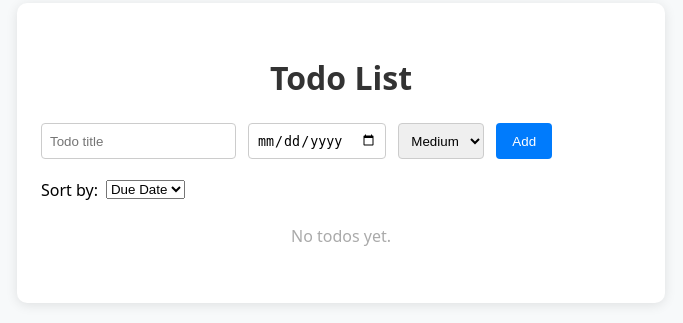
Scenario: App Integration › can add a new todo
The width and height of the screenshot is (683, 323).
Type "Test todo item" into the field with placeholder "Todo title" at (138, 141), box [41,123,236,159]
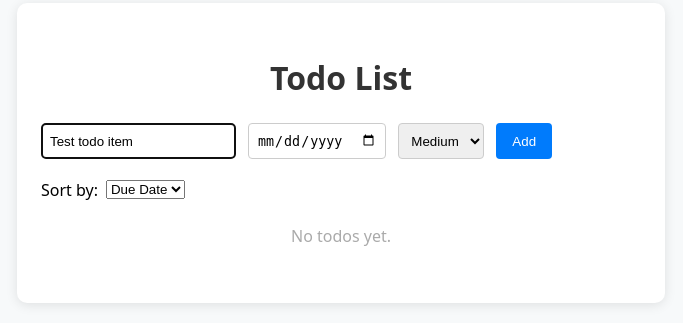
Click the button "Add" at (524, 141), box [496,123,552,159]
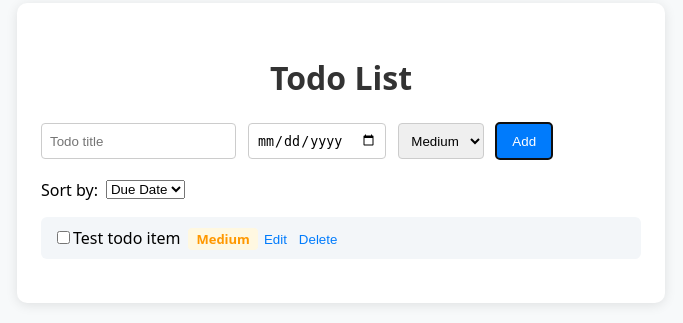
Check: the text "Test todo item" is shown, box [73,227,180,249]
